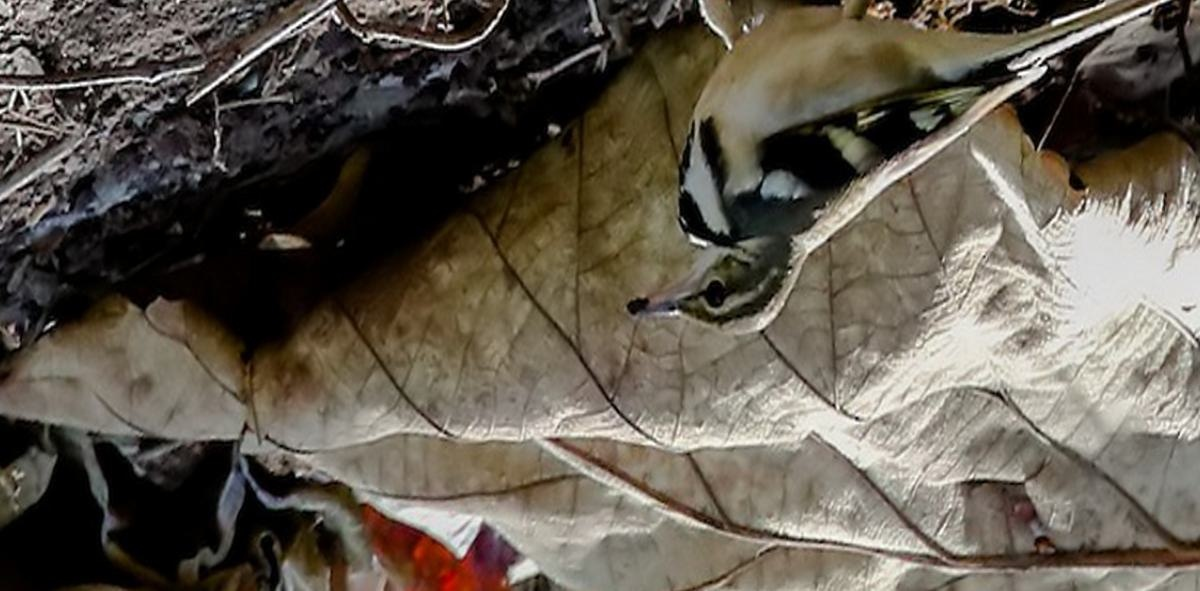wagtail: (629, 1, 1094, 332)
